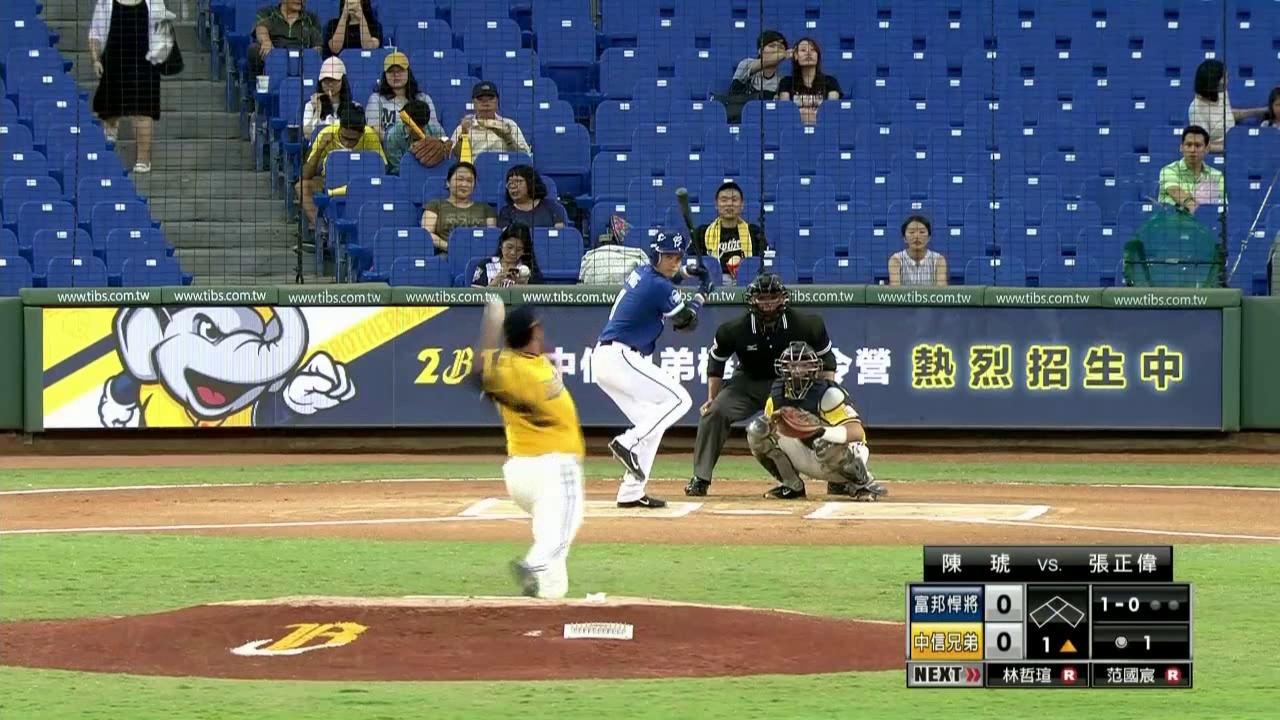ball: (487, 296, 504, 309)
base: (1028, 590, 1087, 634)
bat: (677, 185, 711, 284)
out: (1147, 595, 1180, 618)
score1: (988, 584, 1021, 622)
score2: (992, 620, 1020, 660)
session: (1029, 638, 1087, 656)
strikeball: (1099, 592, 1142, 615)
total: (1106, 630, 1162, 658)
